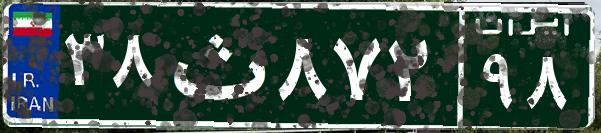2: (385, 28, 445, 110)
3: (57, 26, 110, 107)
7: (330, 28, 385, 110)
8: (273, 28, 330, 110), (110, 28, 158, 105), (525, 38, 570, 115)
9: (475, 38, 525, 113)
ث: (158, 15, 273, 115)
